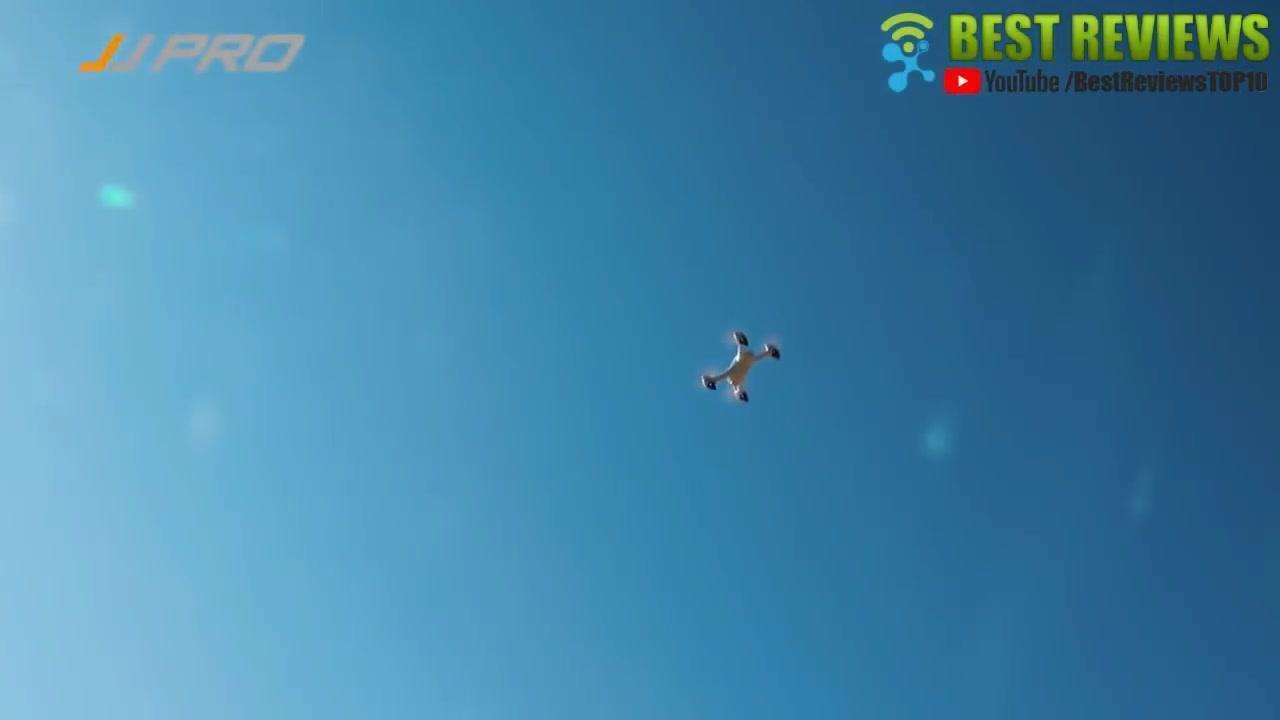UAV: (702, 332, 781, 403)
